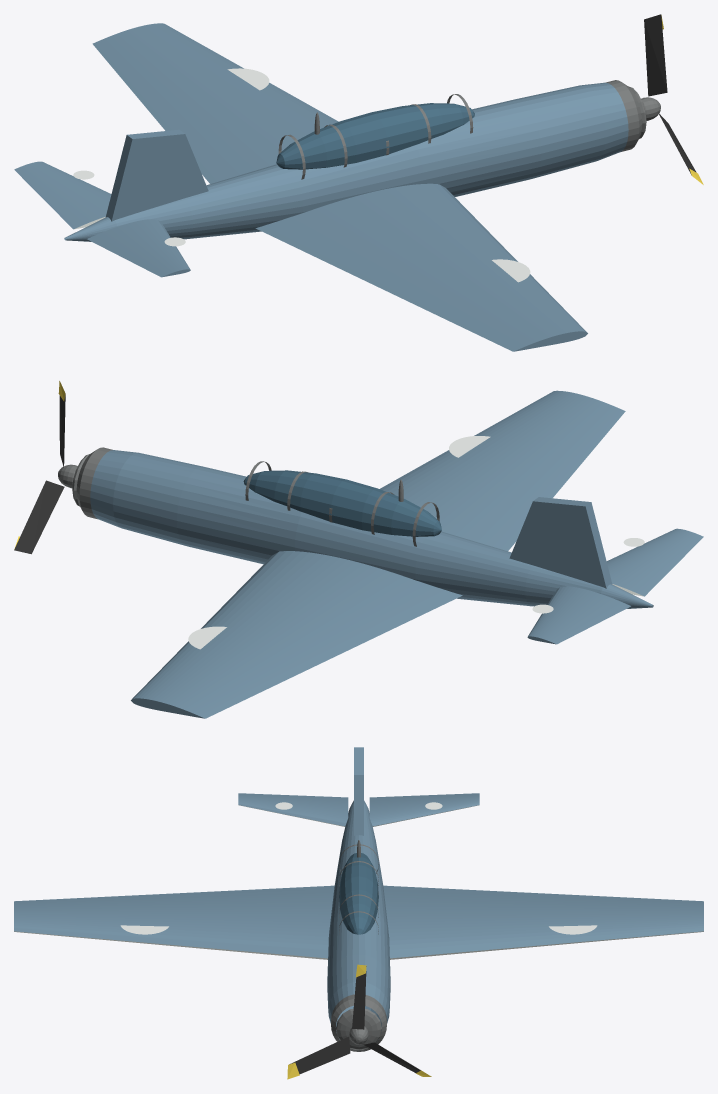
Rendered from a-dive-bomber.glb.
The picture shows the model from 3 angles, top to bottom: view 1: azimuth 30°, elevation 25°; view 2: azimuth 150°, elevation 25°; view 3: azimuth 270°, elevation 25°; orthographic projection. The views are drawn at different scales.
Visible parts, largest first — view 1: A dive-bomber; view 2: A dive-bomber; view 3: A dive-bomber.
Part boxes in pixels (x1=…): A dive-bomber: x1=14, y1=14, x2=703, y2=351; A dive-bomber: x1=14, y1=381, x2=703, y2=718; A dive-bomber: x1=14, y1=747, x2=703, y2=1079.
Size of the model in its own units: 10.51 by 2.51 by 12.8.
